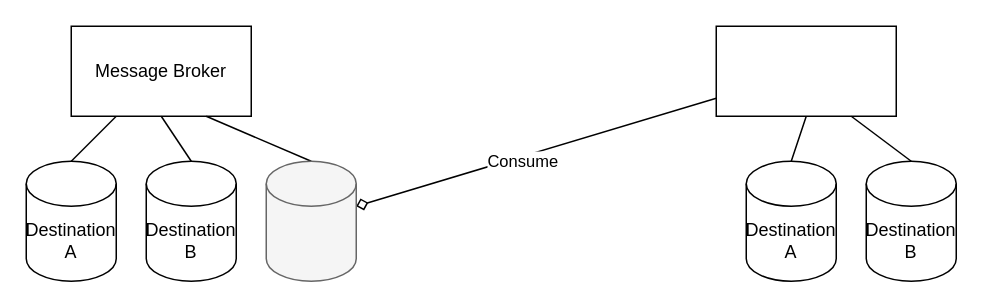
Image size: 983x308. Some labels were removed from this diagram. Each missing label, with the centre of its shape:
"Replica Broker" goes at (805,70).
"Replication Queue" goes at (310,220).
